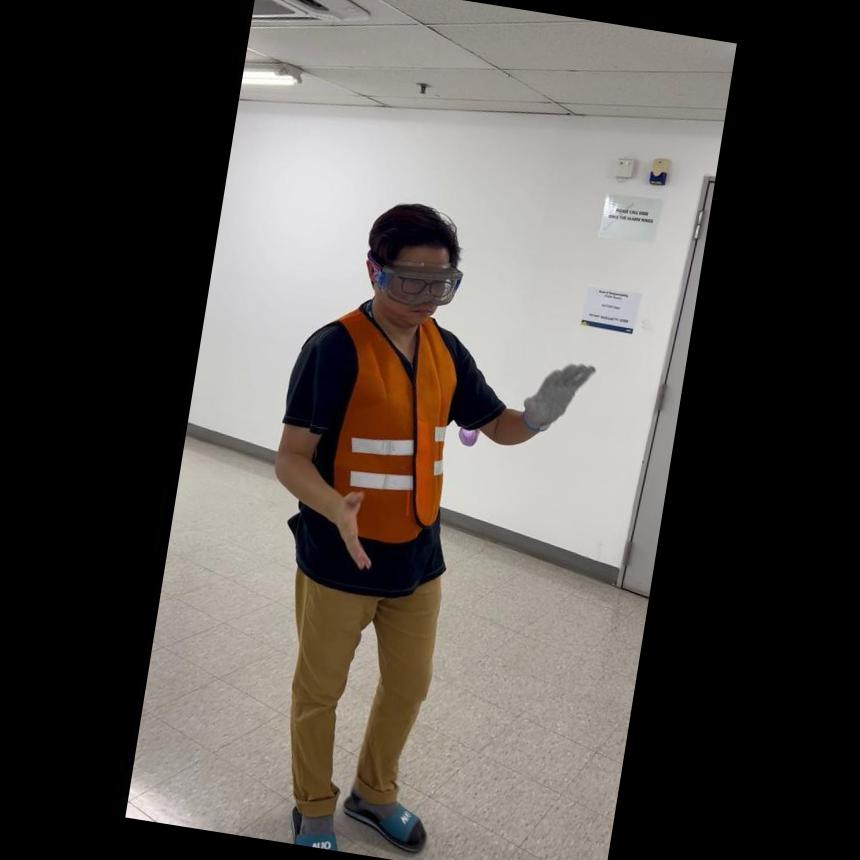Gloves: (514, 346, 598, 439)
No-gloves: (313, 478, 380, 576)
